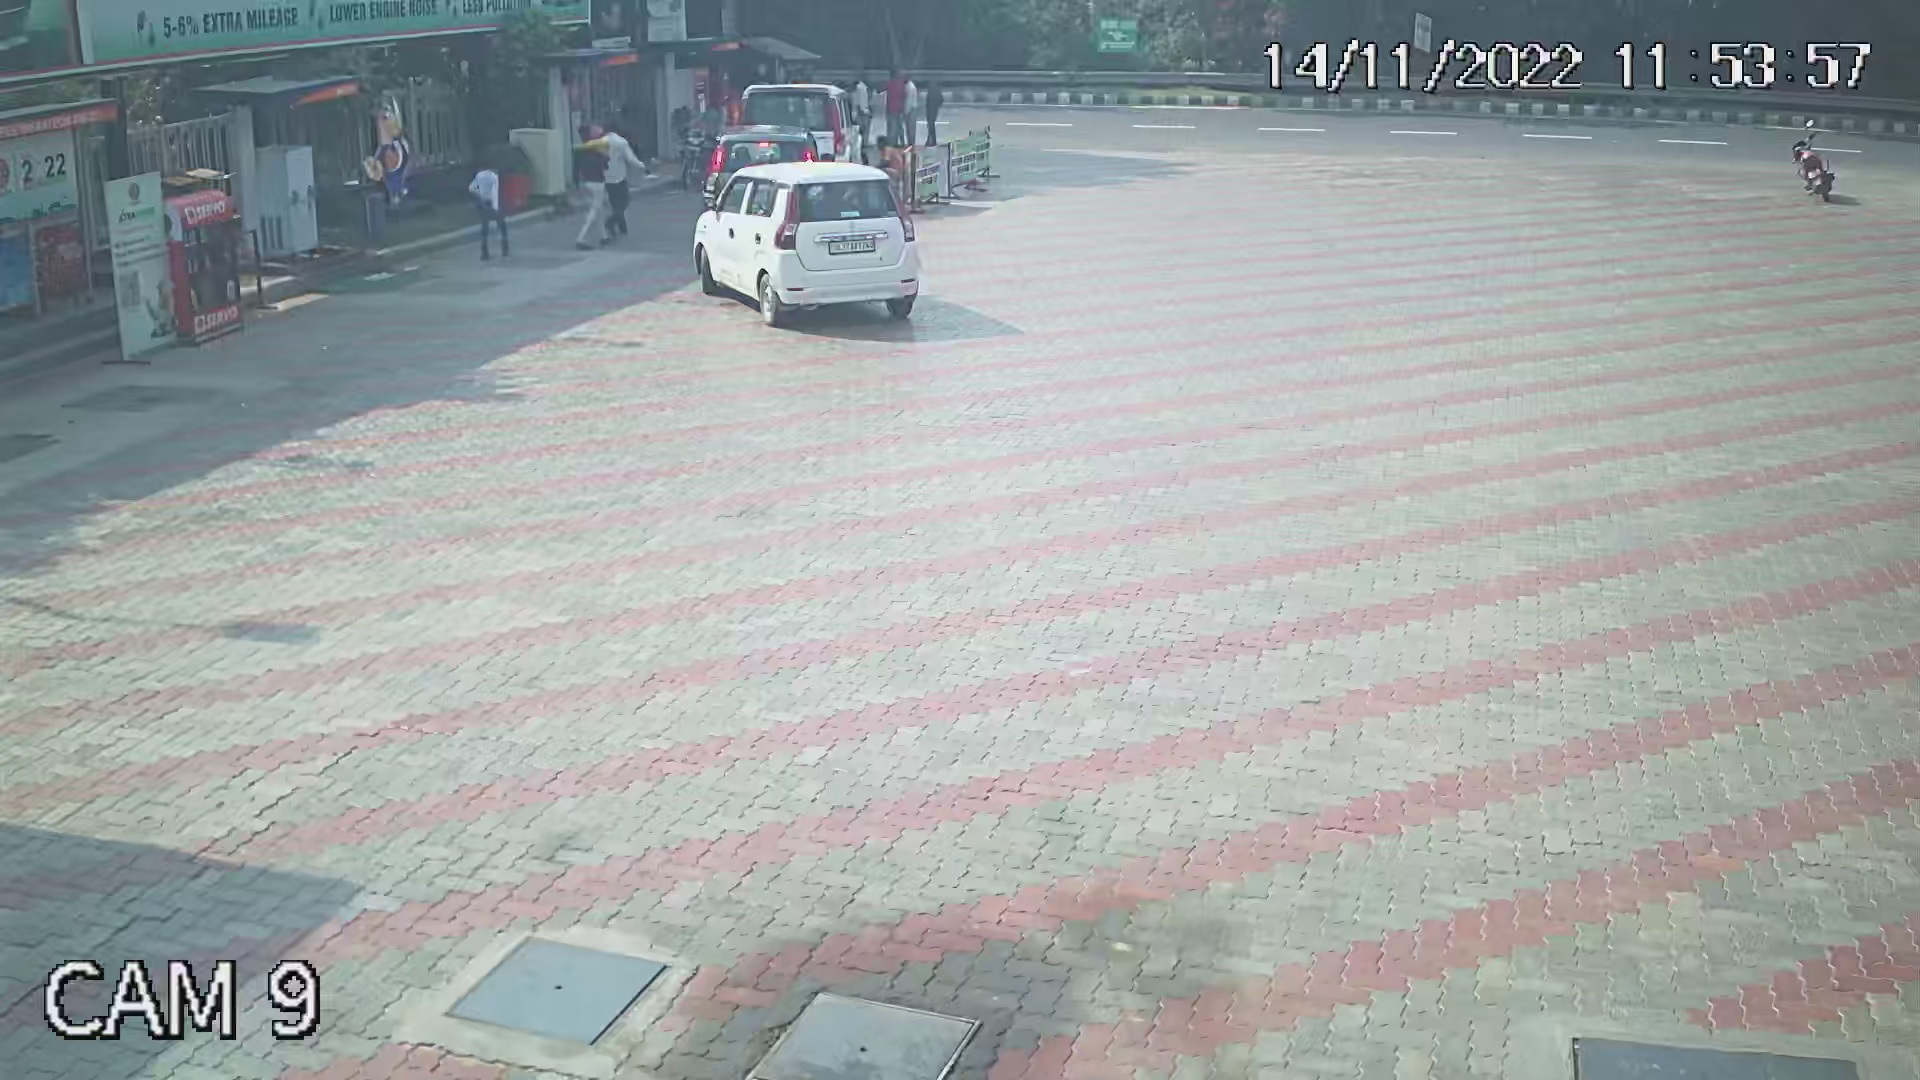Bike: (1785, 113, 1844, 208)
Car: (688, 154, 923, 326), (731, 71, 868, 165), (698, 127, 822, 218)
